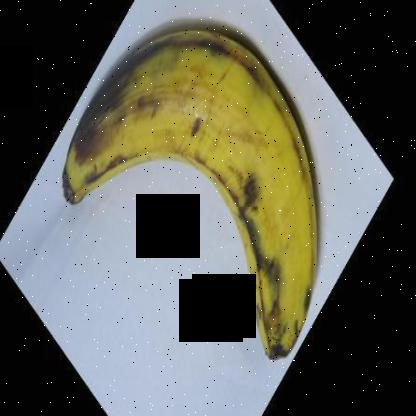ripe: (57, 6, 318, 368)
